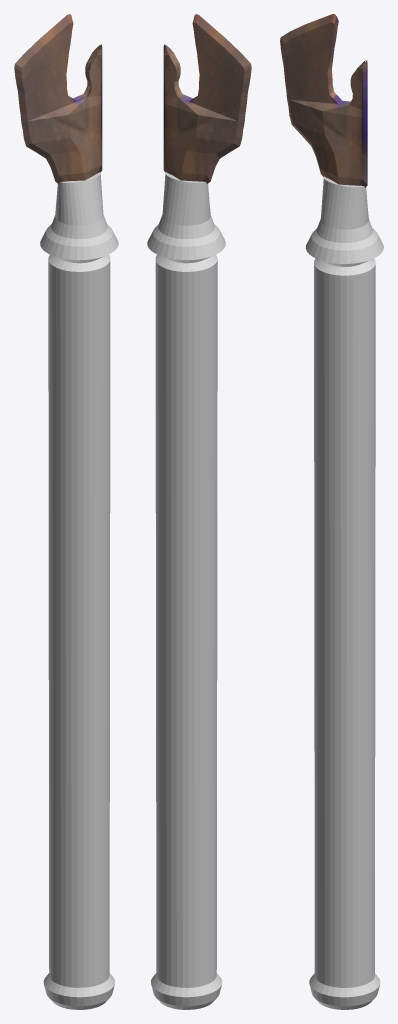
The model's file is senjata kerajaan.fbx.
The picture shows the model from 3 angles, left to right: view 1: azimuth 30°, elevation 25°; view 2: azimuth 150°, elevation 25°; view 3: azimuth 330°, elevation 25°; orthographic projection.
Parts seen in each view (by area): view 1: Cylinder, Cube; view 2: Cylinder, Cube; view 3: Cylinder, Cube.
Boxes of the visible parts, x1,y1,x2,y2 form: Cylinder: (40, 172, 118, 1009); Cube: (14, 14, 102, 183); Cylinder: (147, 172, 225, 1009); Cube: (163, 14, 251, 183); Cylinder: (305, 176, 383, 1009); Cube: (280, 14, 367, 187).
Bounding box in the file's own units: 48.43 × 463 × 33.29.
2 materials, 1 textured.
